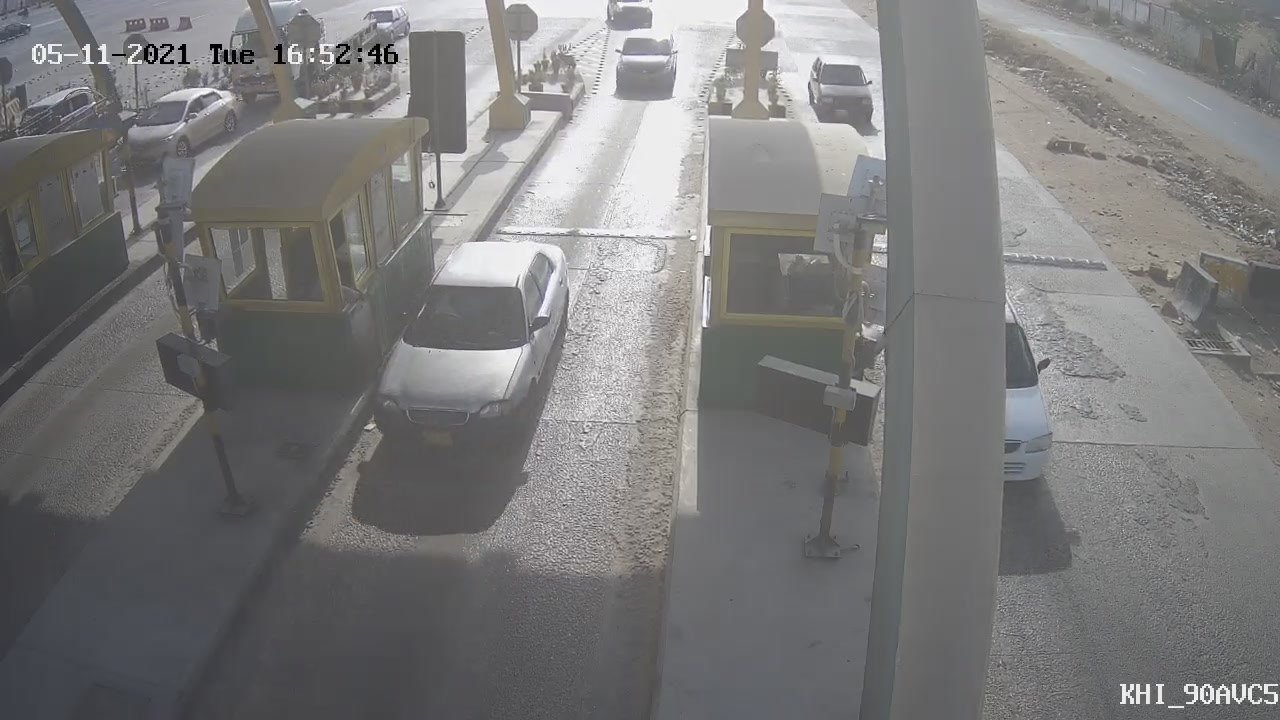F1: (344, 220, 586, 474)
